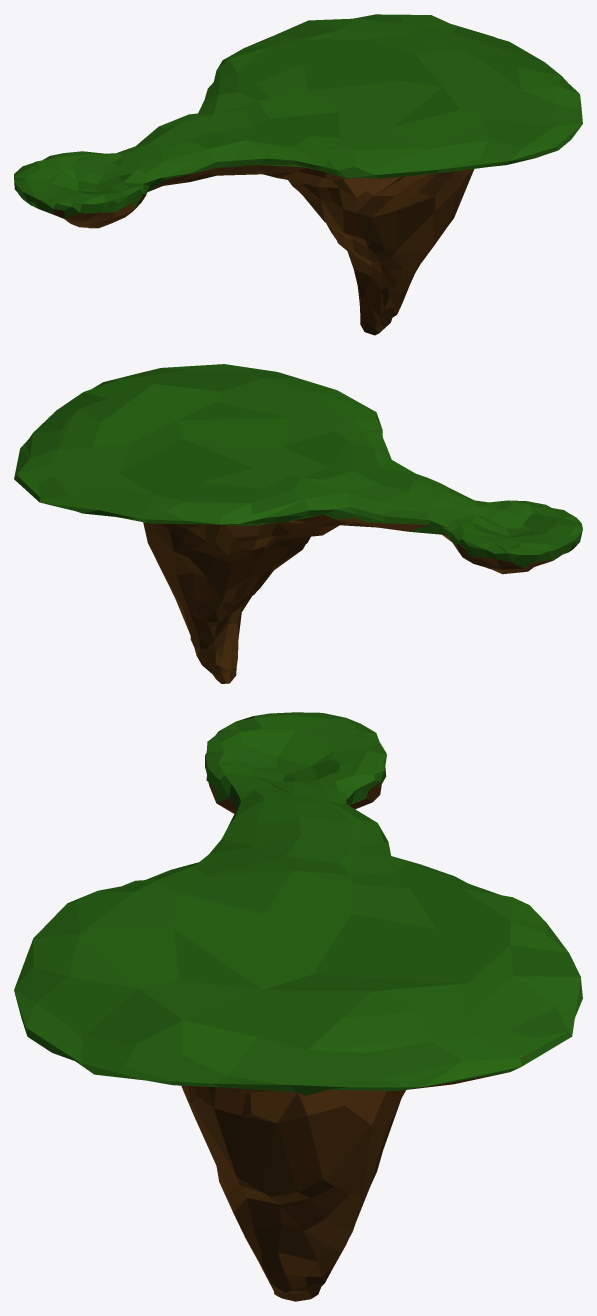
Rendered from Salele.fbx.
The picture shows the model from 3 angles, top to bottom: view 1: azimuth 30°, elevation 25°; view 2: azimuth 150°, elevation 25°; view 3: azimuth 270°, elevation 25°; orthographic projection. The views are drawn at different scales.
Parts seen in each view (by area): view 1: base.001_Baked; view 2: base.001_Baked; view 3: base.001_Baked.
Boxes of the visible parts, bbox=[...] form: base.001_Baked: bbox=[14, 14, 582, 335]; base.001_Baked: bbox=[14, 364, 582, 683]; base.001_Baked: bbox=[14, 712, 582, 1301].
Bounding box in the file's own units: 1567 × 702 × 998.
